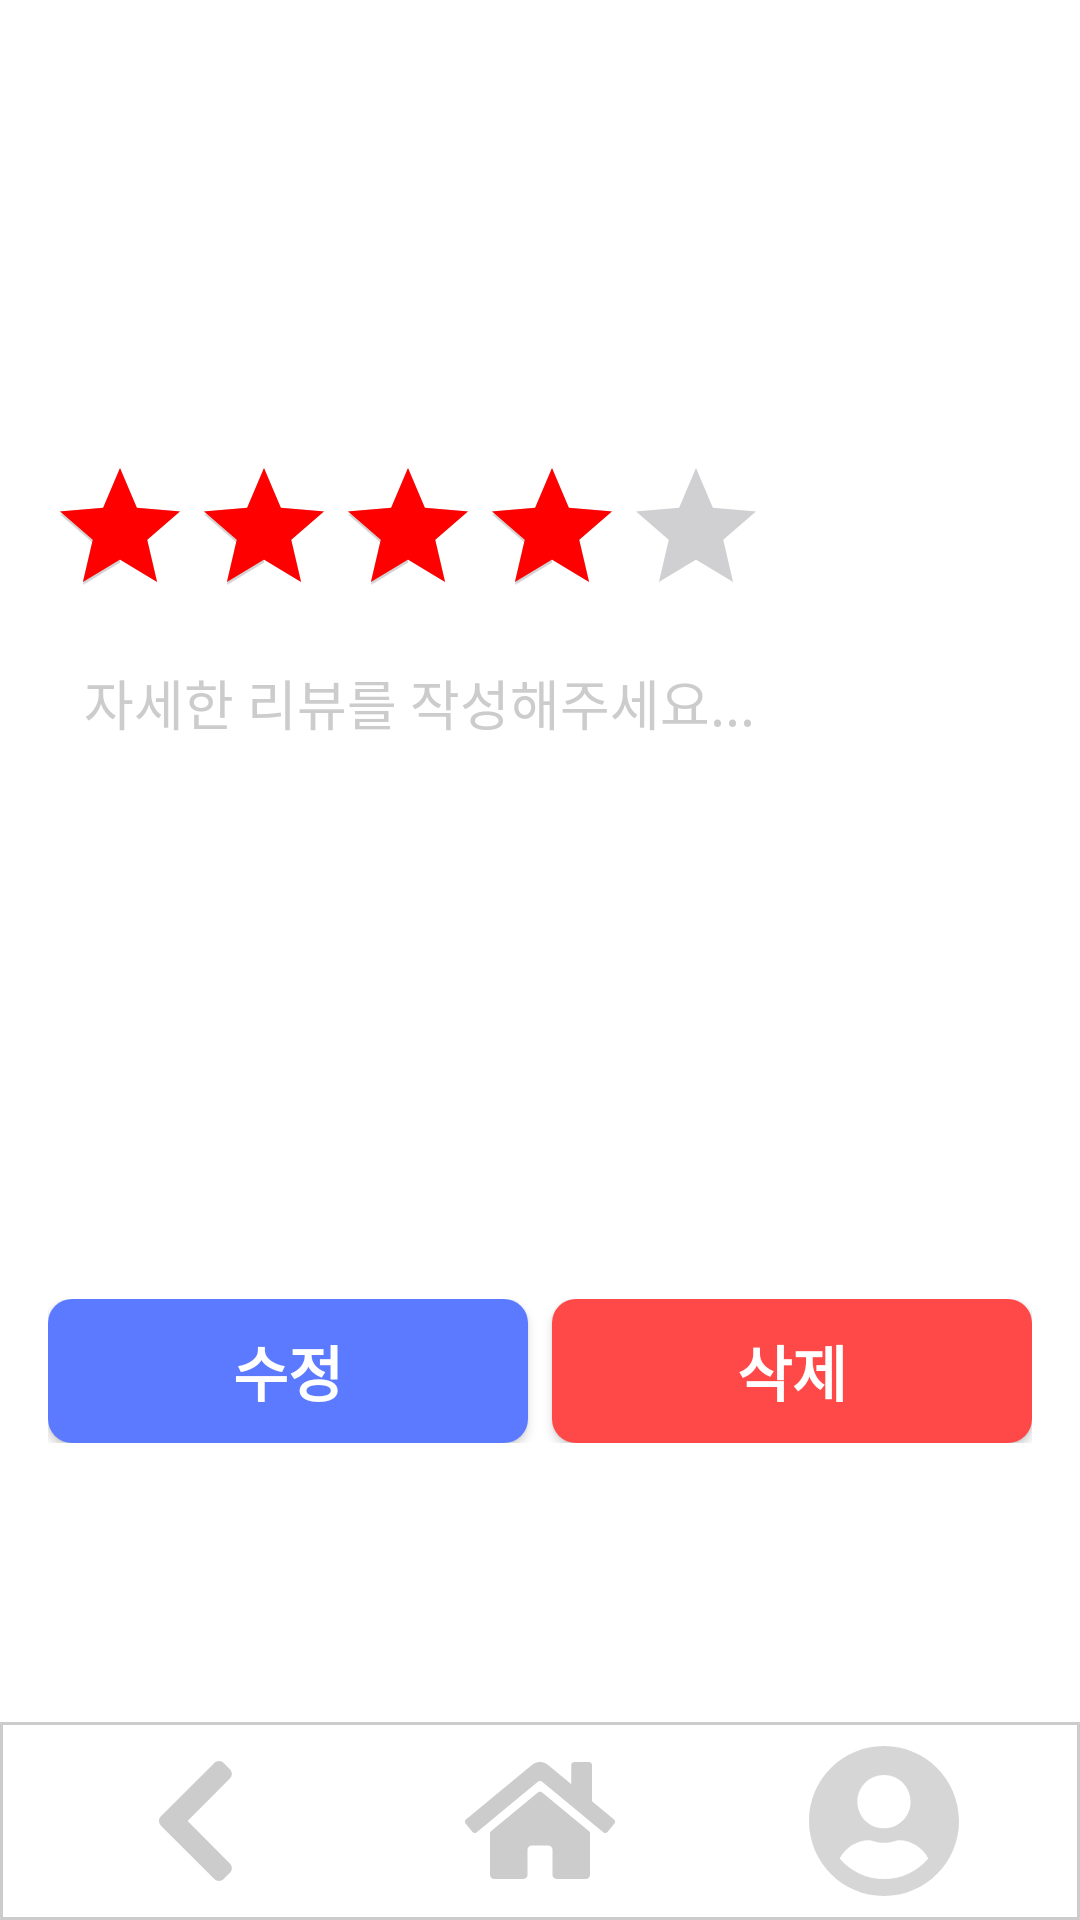

Where icons sit on this 1080×1920 app screen, as (x1, y1, x2, y2):
Back Button: (159, 1761, 232, 1881)
Home Button: (465, 1762, 615, 1879)
My Page Button: (809, 1746, 959, 1896)
